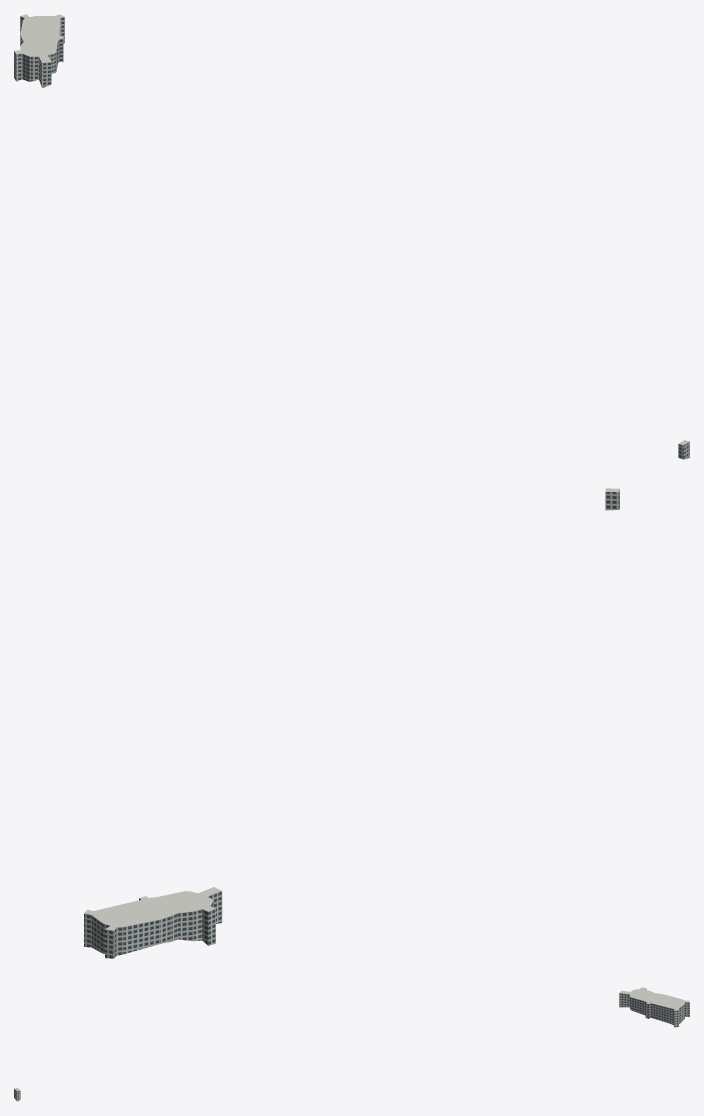
Rendered from city_7_-3.glb.
The picture shows the model from 3 angles, top to bottom: view 1: azimuth 30°, elevation 25°; view 2: azimuth 150°, elevation 25°; view 3: azimuth 270°, elevation 25°; orthographic projection. The views are drawn at different scales.
Size of the model in its own units: 159 by 74.05 by 794.
Materials: 1 (1 with a texture image).
